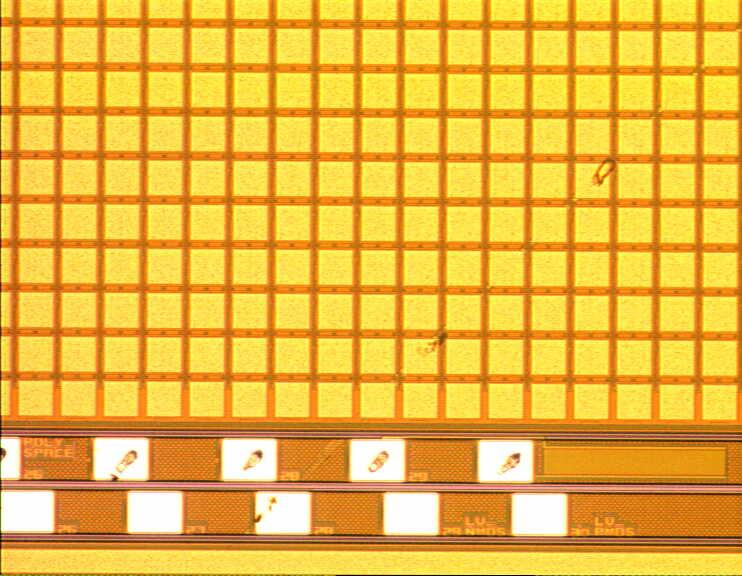SCRATCH: (217, 26, 742, 551)
